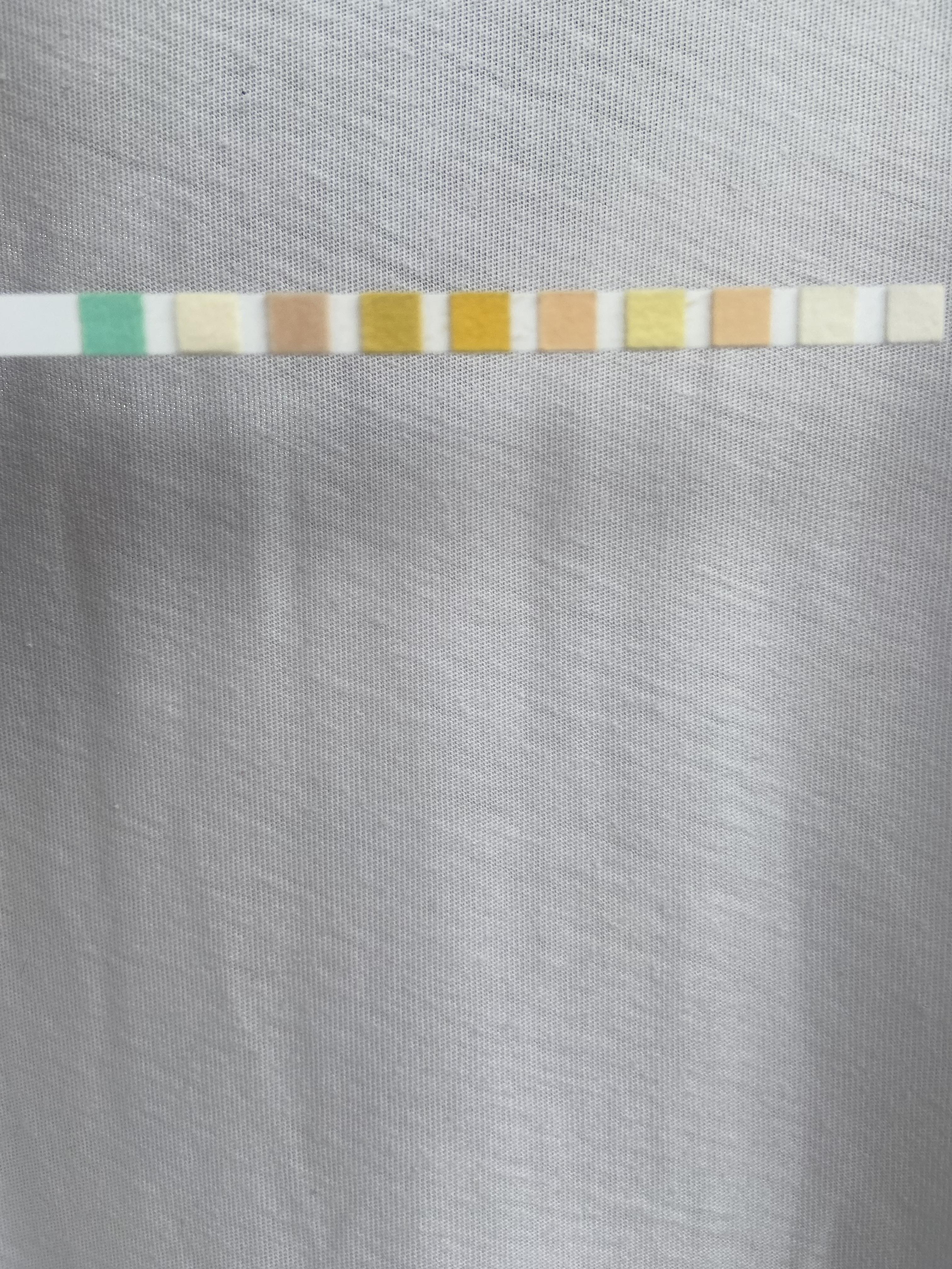Bilirubin: (179, 294, 238, 352)
Blood: (449, 292, 508, 350)
Glucose: (82, 296, 141, 354)
Ketone: (267, 297, 326, 355)
Leukocytes: (886, 286, 945, 344)
Nitrite: (797, 287, 856, 344)
Protein: (625, 291, 684, 349)
SpGravity: (361, 293, 419, 351)
Urobilinogen: (713, 289, 771, 347)
pH: (537, 292, 596, 350)
strip: (0, 285, 946, 356)
